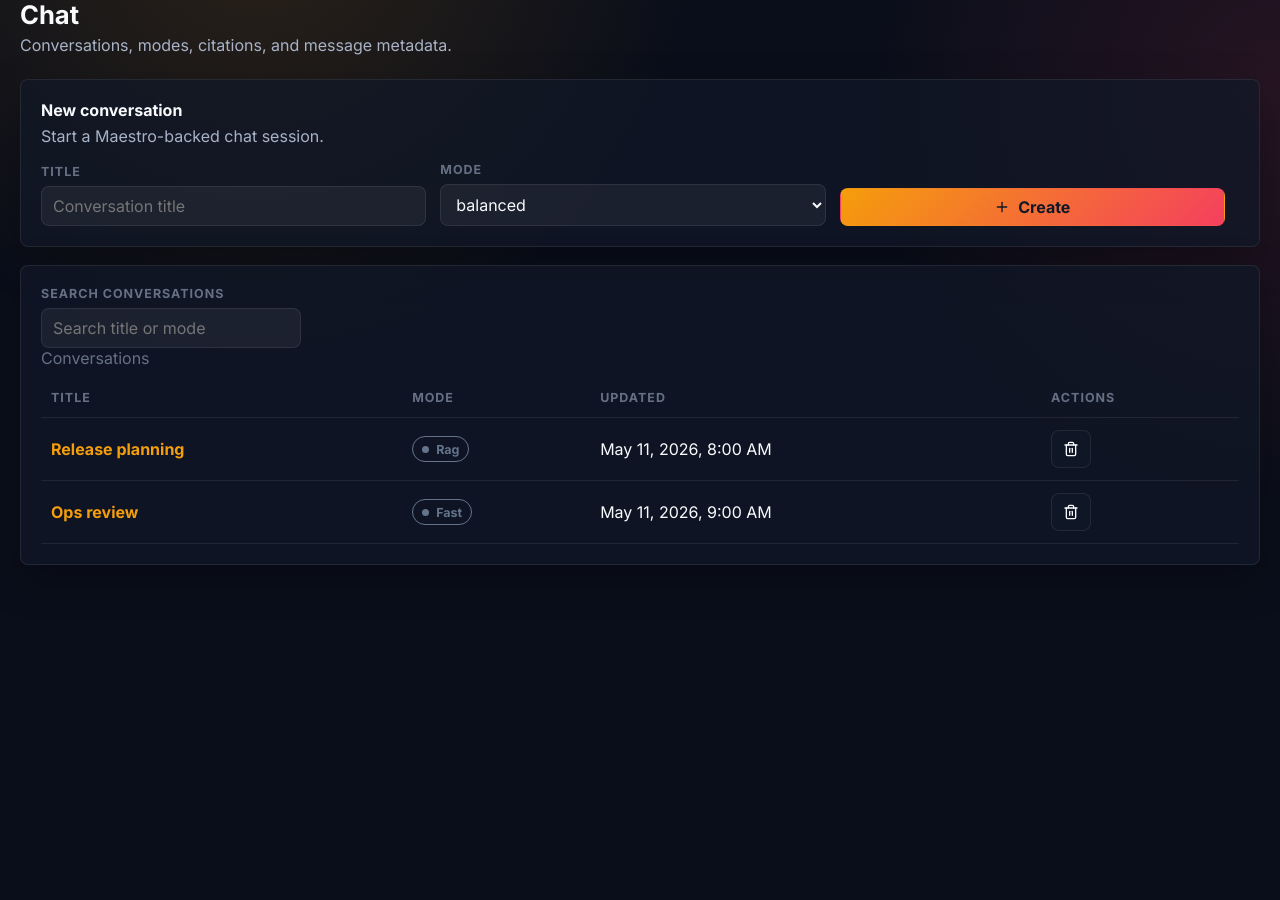
Scenario: ChatPage › confirms deletion and refreshes the conversation list after success
Expected: the link "Release planning" is shown, top-left (51, 439), bottom-right (184, 459)
Click the button named "delete release planning".
click(1071, 449)  # box top-left (1051, 430), bottom-right (1091, 468)
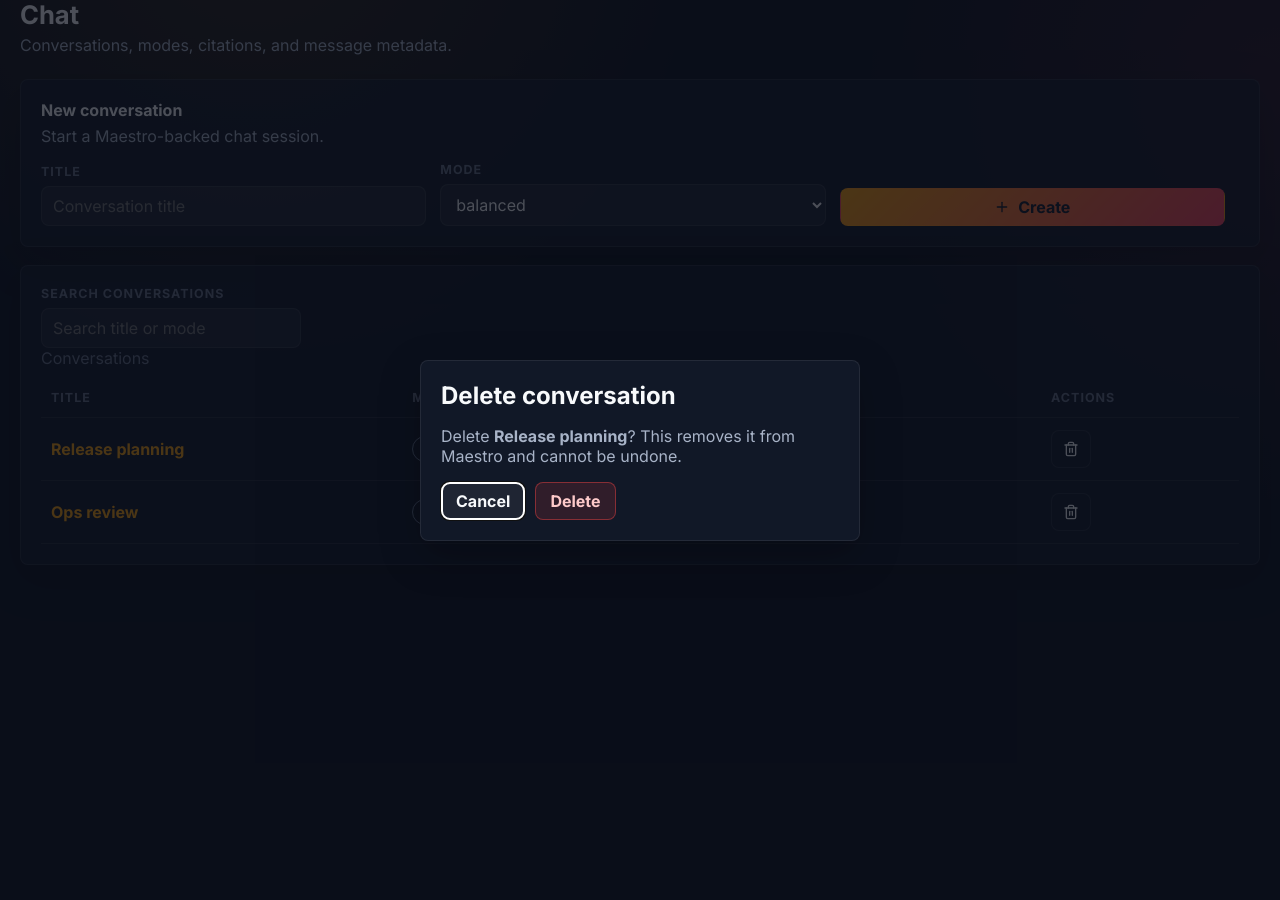
Expected: the dialog "Delete conversation" is shown, top-left (420, 360), bottom-right (860, 540)
Click the button "Delete".
click(576, 500)  # box top-left (535, 482), bottom-right (616, 520)
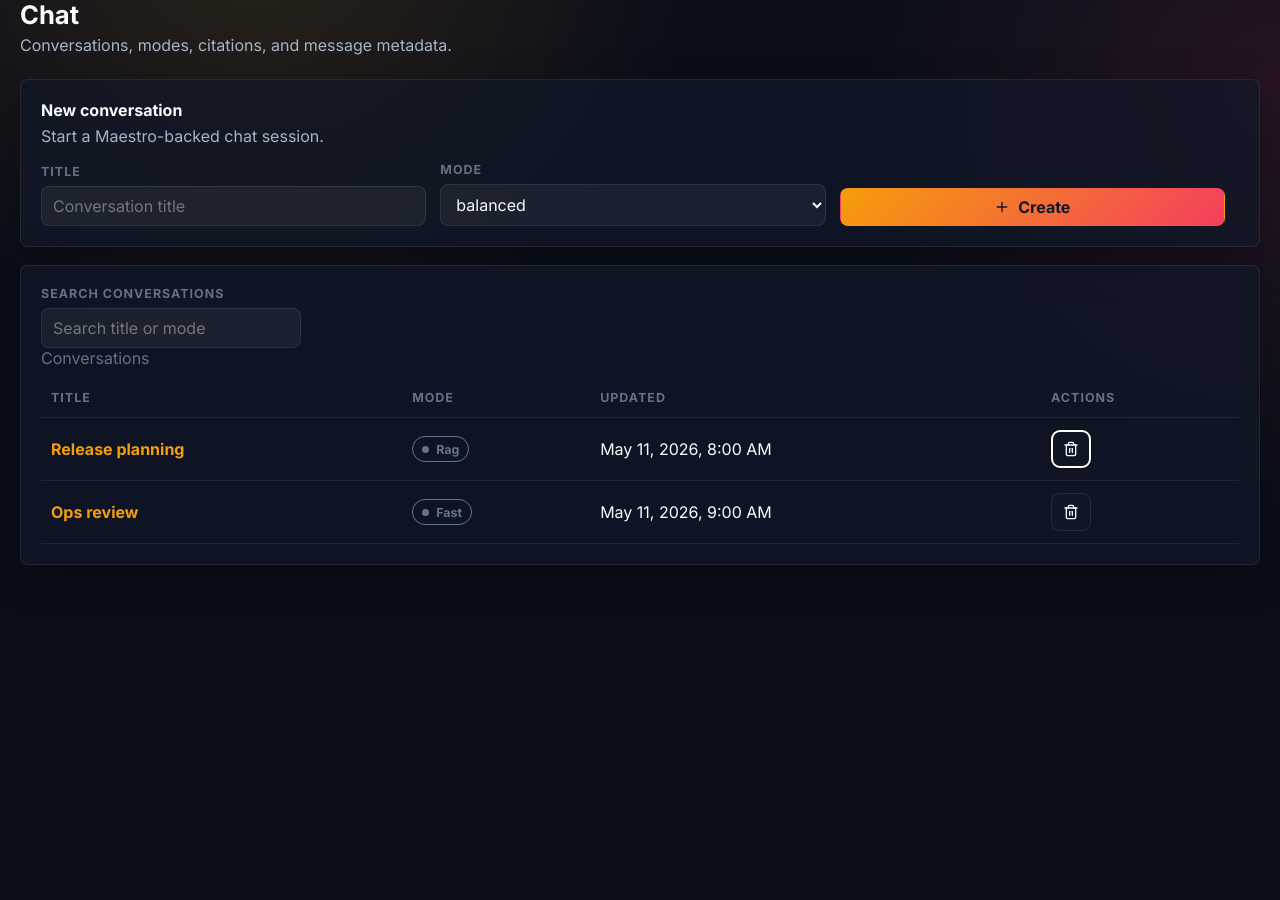
Expected: the heading "Delete conversation" is gone
